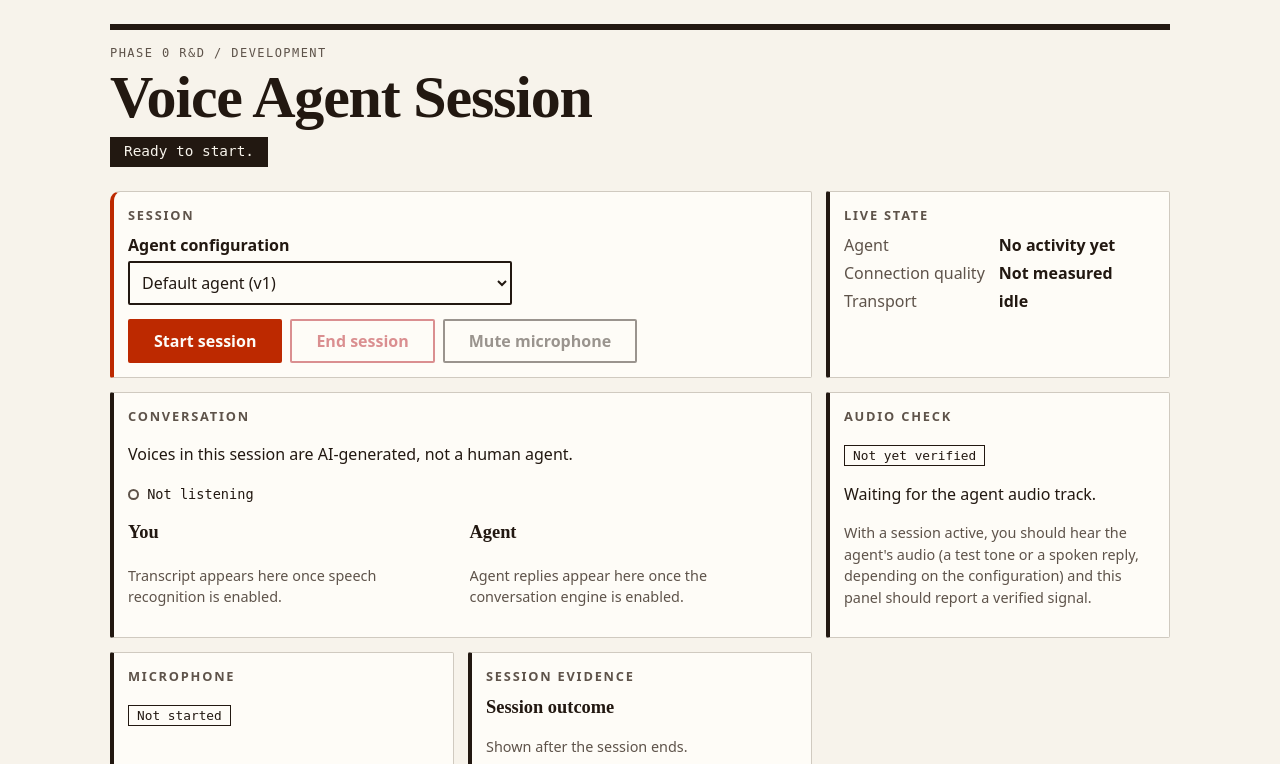
transcript panel › uses a polite additions-only log for finals
Click the button "Start session" at (205, 341), box left=128, top=319, right=282, bottom=363
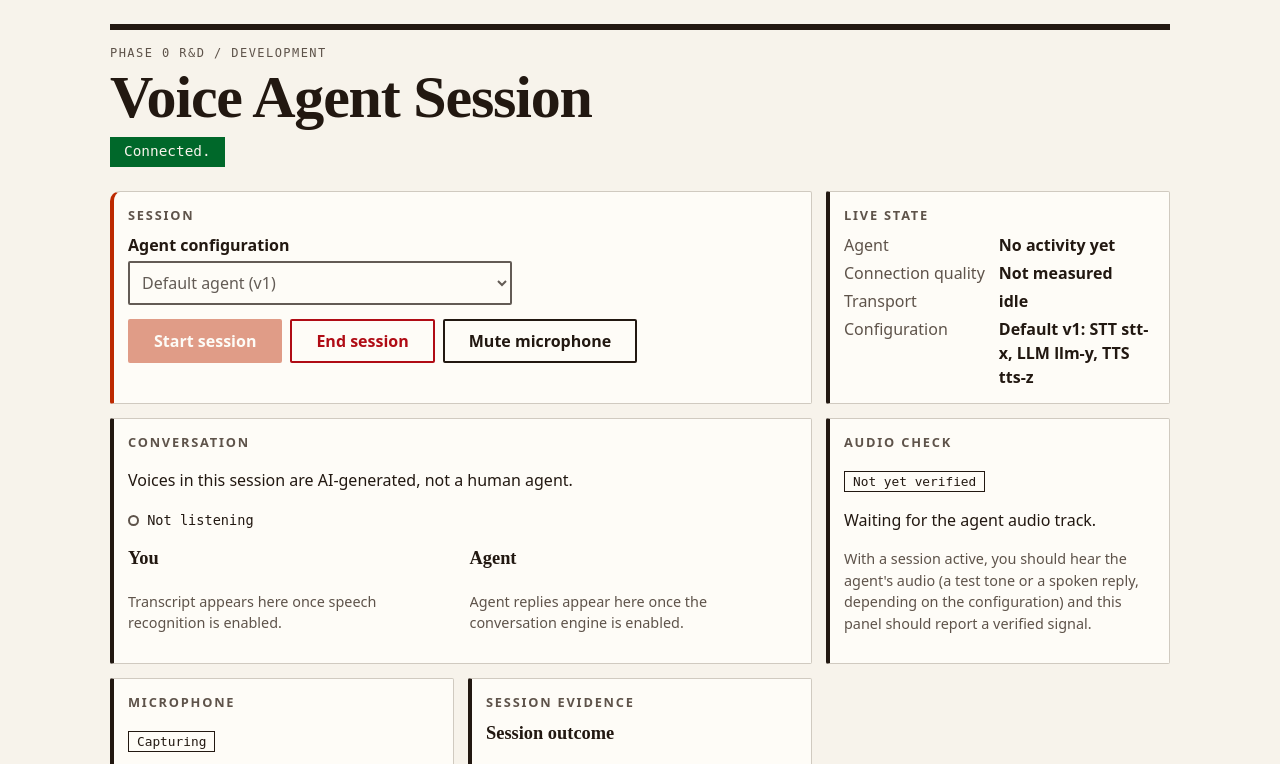
Check: the message "Connected." is shown, box left=110, top=137, right=225, bottom=167
